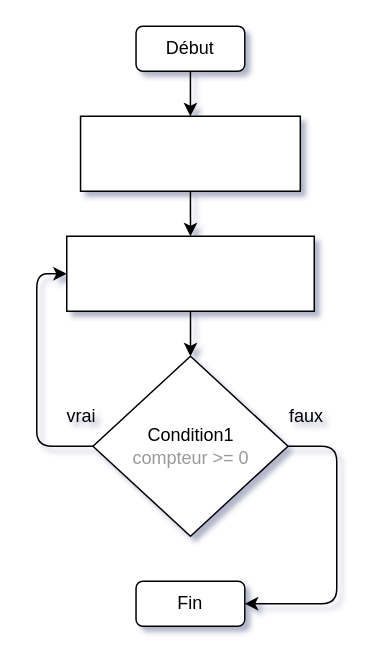
Image size: 384x662. Some labels were removed from this diagram. Each missing label, with the centre of its shape:
AFFICHER compteur compteur = compteur +1: point 189,273
Déclaration de variable texte = "--> " compteur = 10: point 189,153
